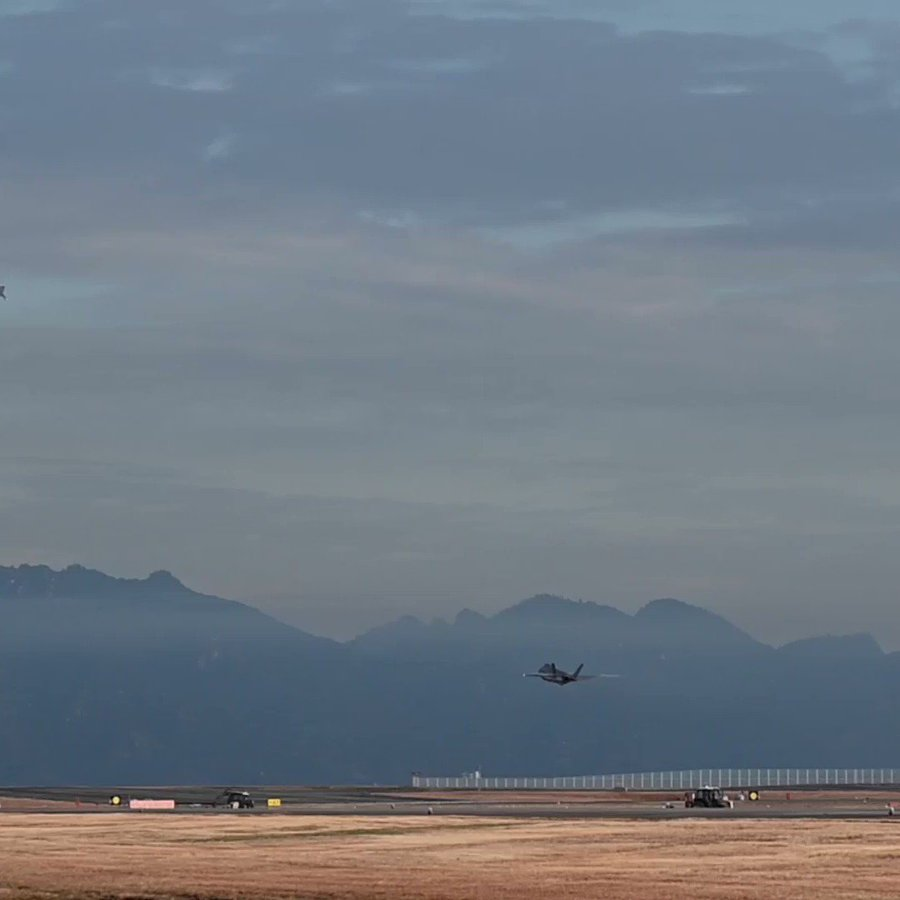airplane: (521, 662, 600, 687)
